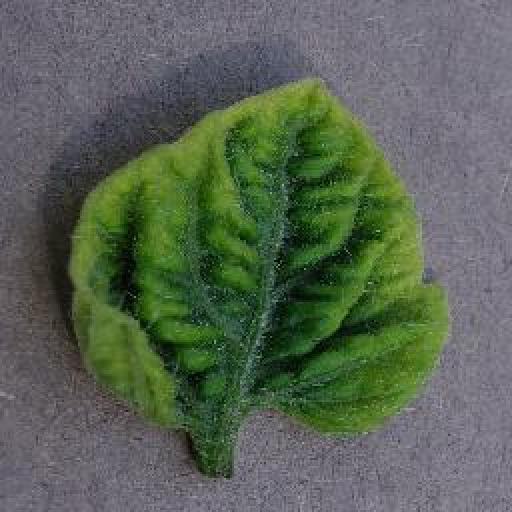Yellow Leaf Curl Virus: (67, 71, 447, 437)
